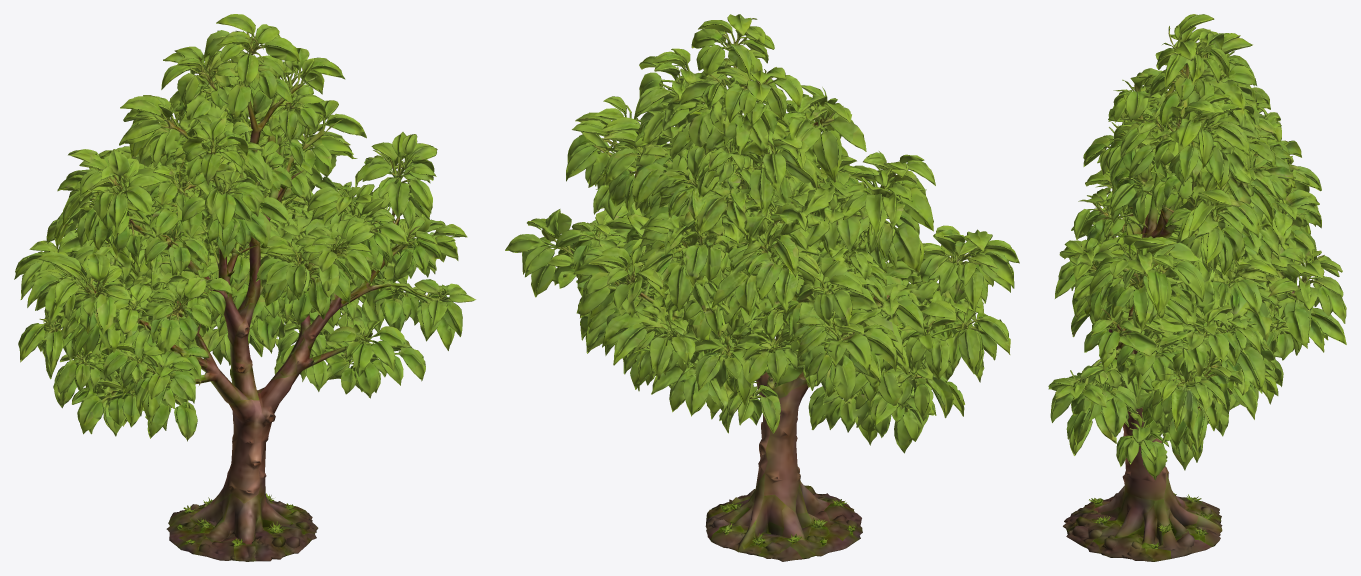
Rendered from plant_cherry_full.glb.
3 views of the same model, side by side, from view 1: azimuth 30°, elevation 25°; view 2: azimuth 150°, elevation 25°; view 3: azimuth 270°, elevation 25° (orthographic). The views are drawn at different scales.
Visible parts, largest first — view 1: crown, trunk; view 2: crown, trunk; view 3: crown, trunk.
Boxes of the visible parts, <box> form: crown: <box>14,14,475,441</box>; trunk: <box>166,411,318,561</box>; crown: <box>505,14,1019,453</box>; trunk: <box>705,394,862,561</box>; crown: <box>1048,14,1346,480</box>; trunk: <box>1063,415,1222,561</box>.
Bounding box in the file's own units: 1.92 × 2 × 1.04.
Materials: 1 (1 with a texture image).
